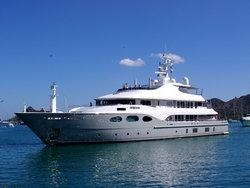yacht: (12, 53, 231, 145)
